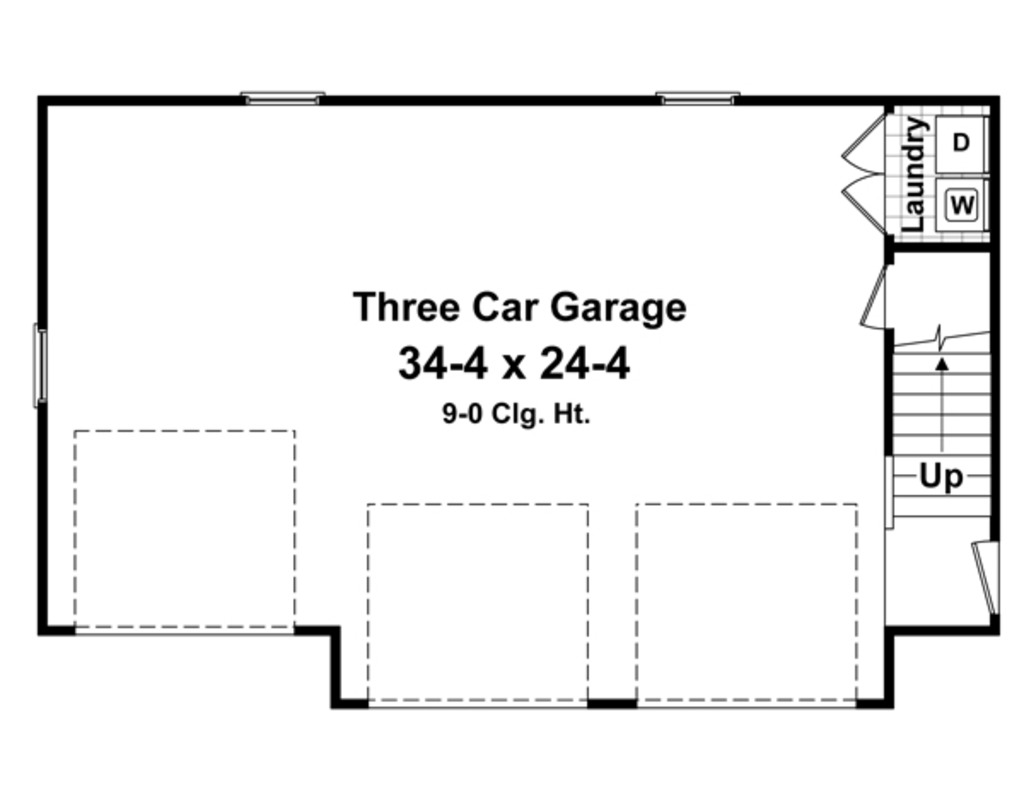door: (840, 117, 888, 239), (854, 258, 893, 330), (969, 536, 998, 614)
stairs: (883, 255, 988, 532)
window: (240, 84, 327, 108), (656, 86, 744, 105), (32, 320, 51, 405)
